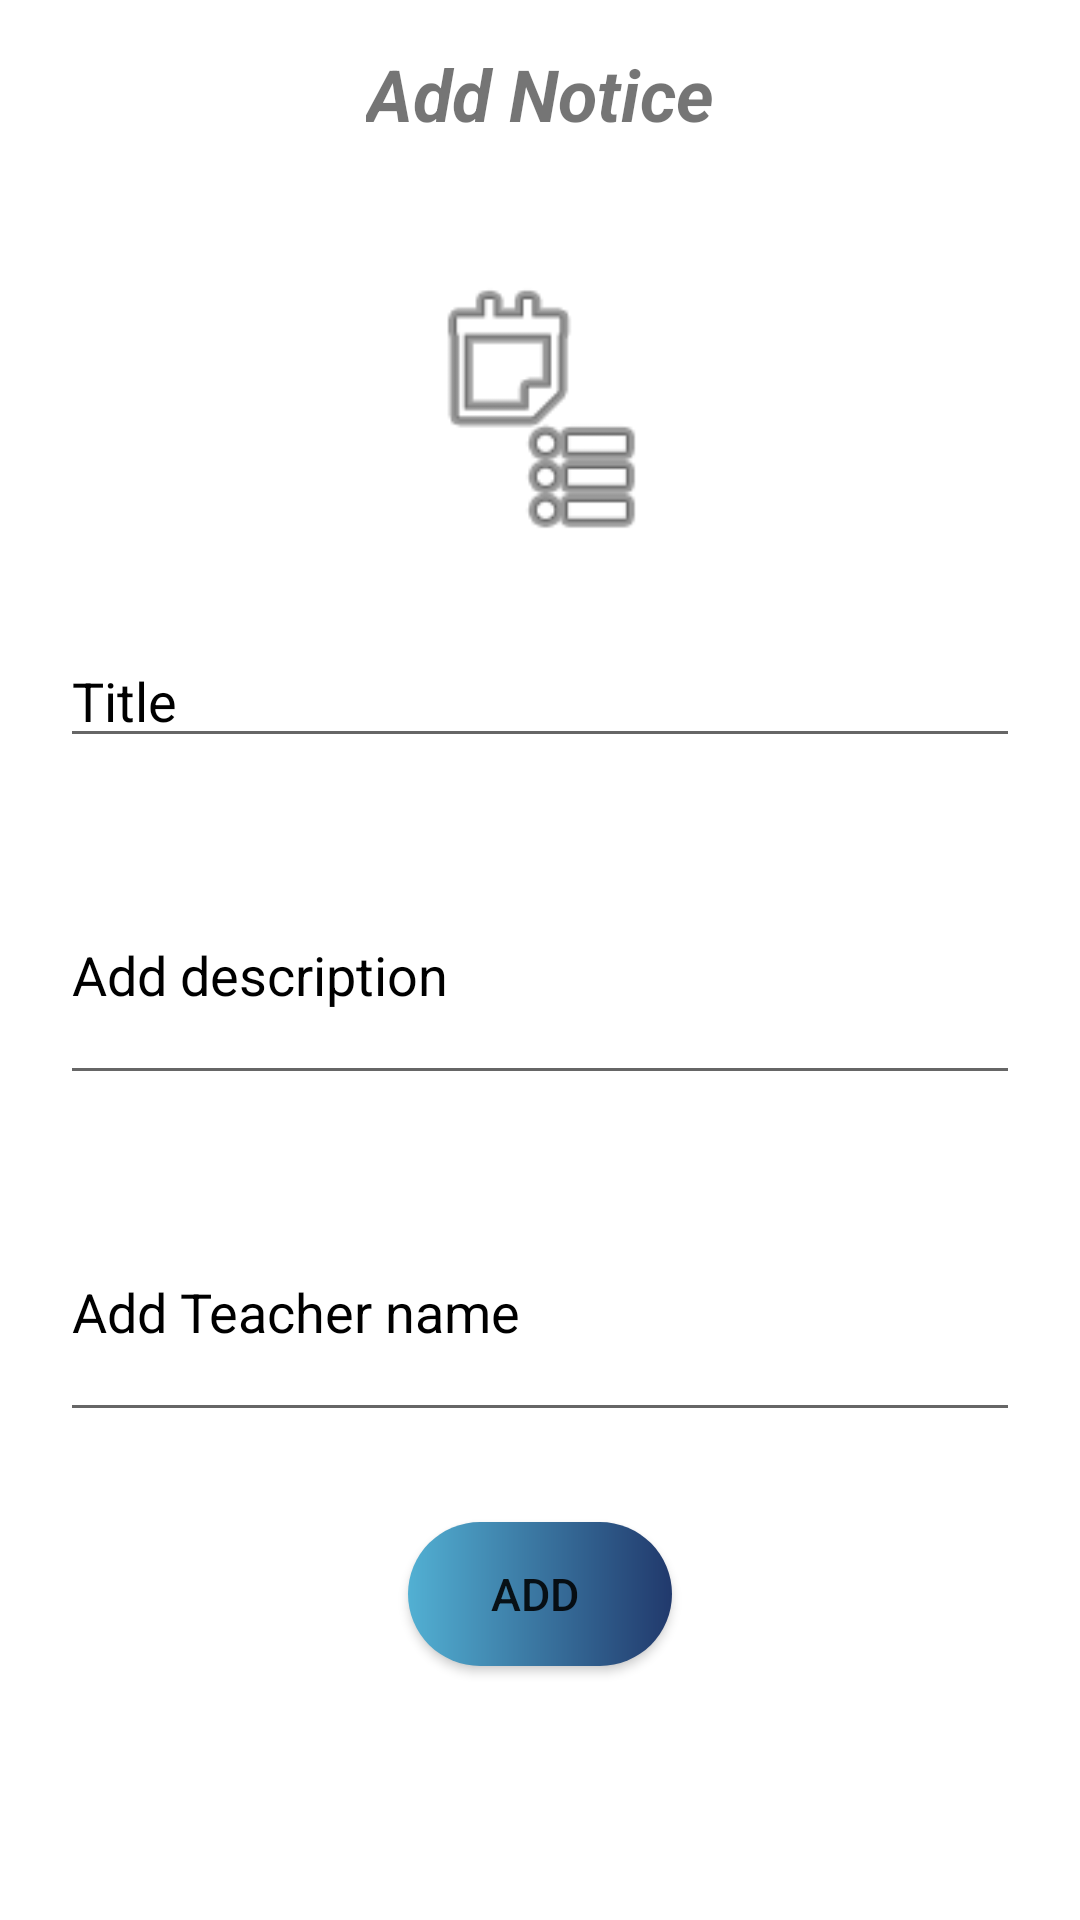

Where icons sit on this 1080 x 1920 app screen, as bbox=[x1, y1, x2, y2]:
agenda: bbox=[447, 290, 635, 528]
